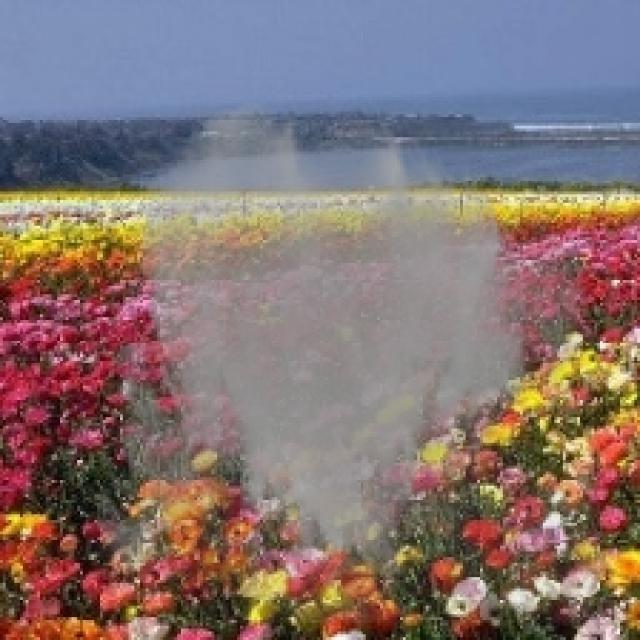Smoke: (77, 97, 603, 623)
